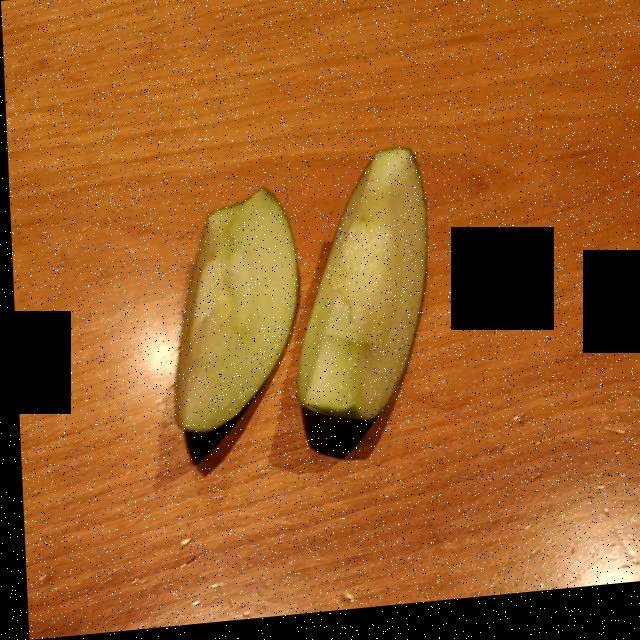apple: (165, 160, 425, 441)
